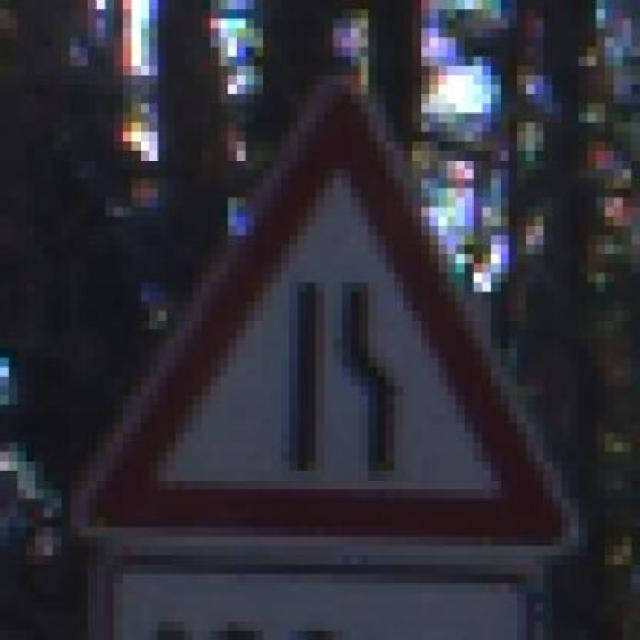-Road narrows on right: (52, 54, 588, 563)
